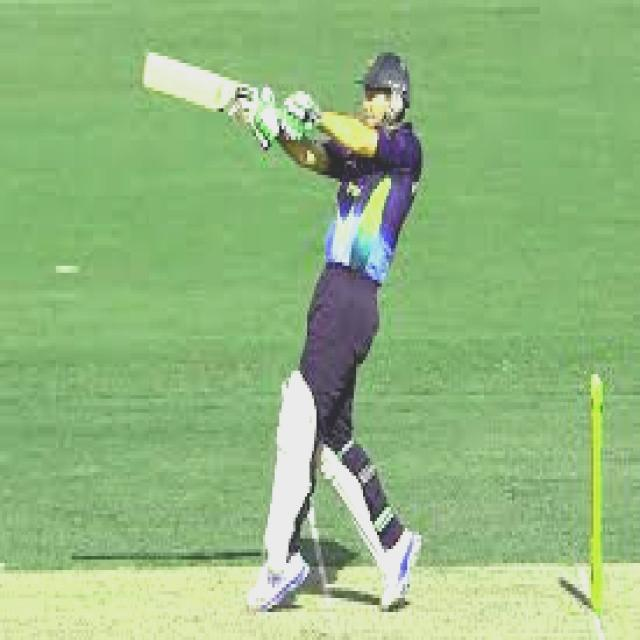toe: (142, 50, 152, 86)
